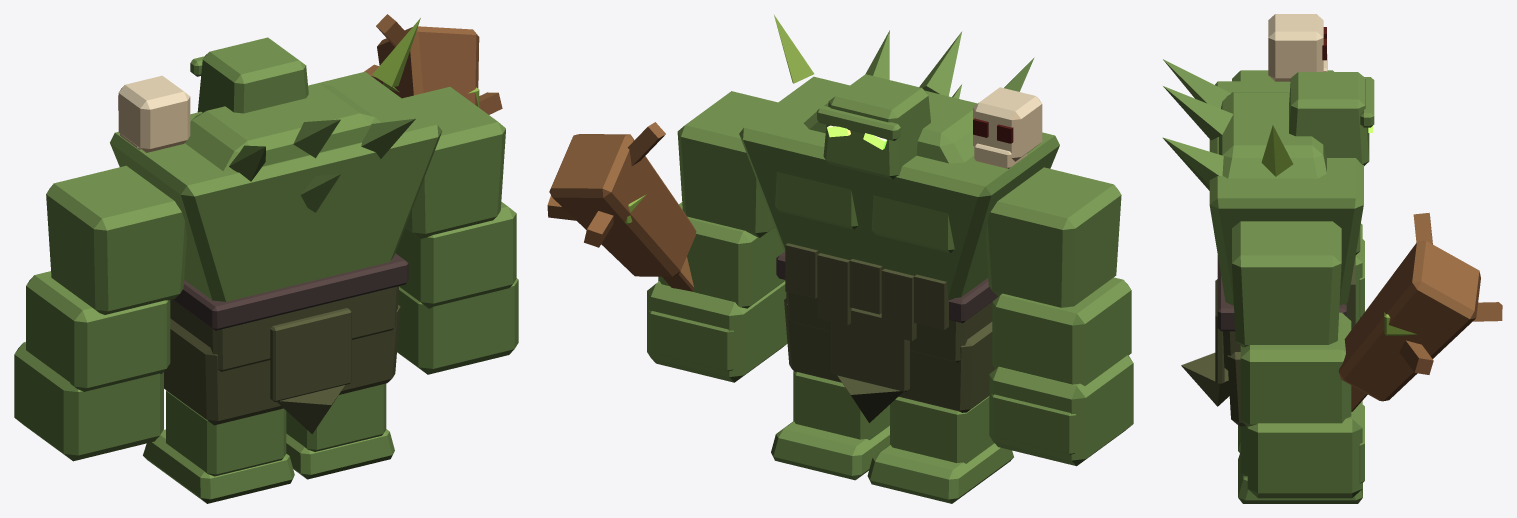
The model's file is swamp_beast.glb.
3 views of the same model, side by side, from view 1: azimuth 30°, elevation 25°; view 2: azimuth 150°, elevation 25°; view 3: azimuth 270°, elevation 25° (orthographic). The views are drawn at different scales.
Parts seen in each view (by area): view 1: Torso, ArmL, ArmR, Hips, LegL, LegR; view 2: Torso, ArmR, ArmL, LegL, Hips, LegR; view 3: ArmR, Torso, Hips, LegR, ArmL.
Part boxes in pixels (bbox=[...]): Torso: bbox=[110, 18, 442, 301]; ArmL: bbox=[14, 165, 186, 461]; ArmR: bbox=[364, 14, 518, 374]; Hips: bbox=[170, 253, 408, 434]; LegL: bbox=[143, 318, 294, 503]; LegR: bbox=[286, 305, 400, 479]; Torso: bbox=[739, 15, 1059, 341]; ArmR: bbox=[547, 91, 787, 382]; ArmL: bbox=[985, 167, 1133, 466]; LegL: bbox=[867, 322, 1013, 503]; Hips: bbox=[776, 252, 998, 422]; LegR: bbox=[771, 298, 889, 480]; ArmR: bbox=[1232, 212, 1502, 498]; Torso: bbox=[1162, 14, 1374, 329]; Hips: bbox=[1181, 255, 1346, 406]; LegR: bbox=[1227, 352, 1362, 503]; ArmL: bbox=[1232, 70, 1364, 323].
Bounding box in the file's own units: 2.5 × 1.92 × 1.48.
